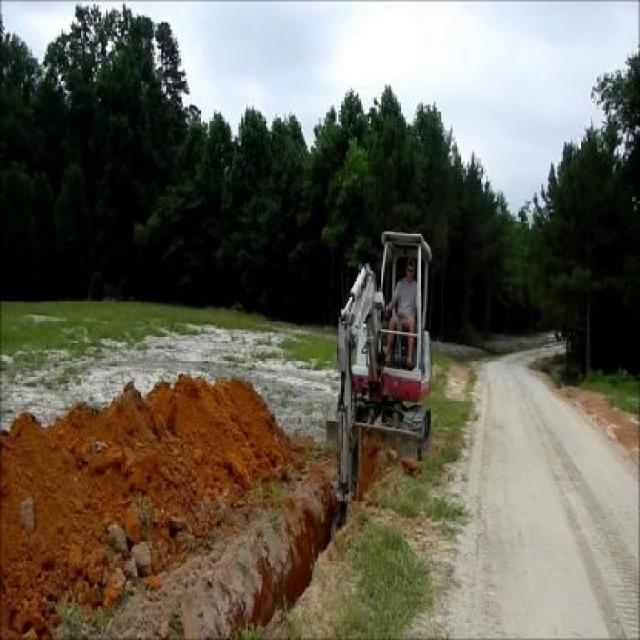Excavator: (326, 228, 432, 532)
